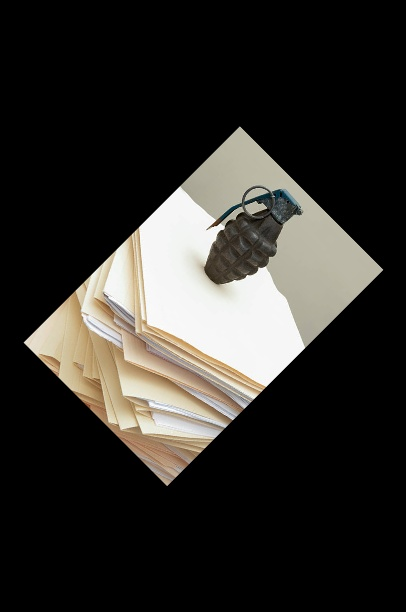e1: (199, 178, 307, 287)
